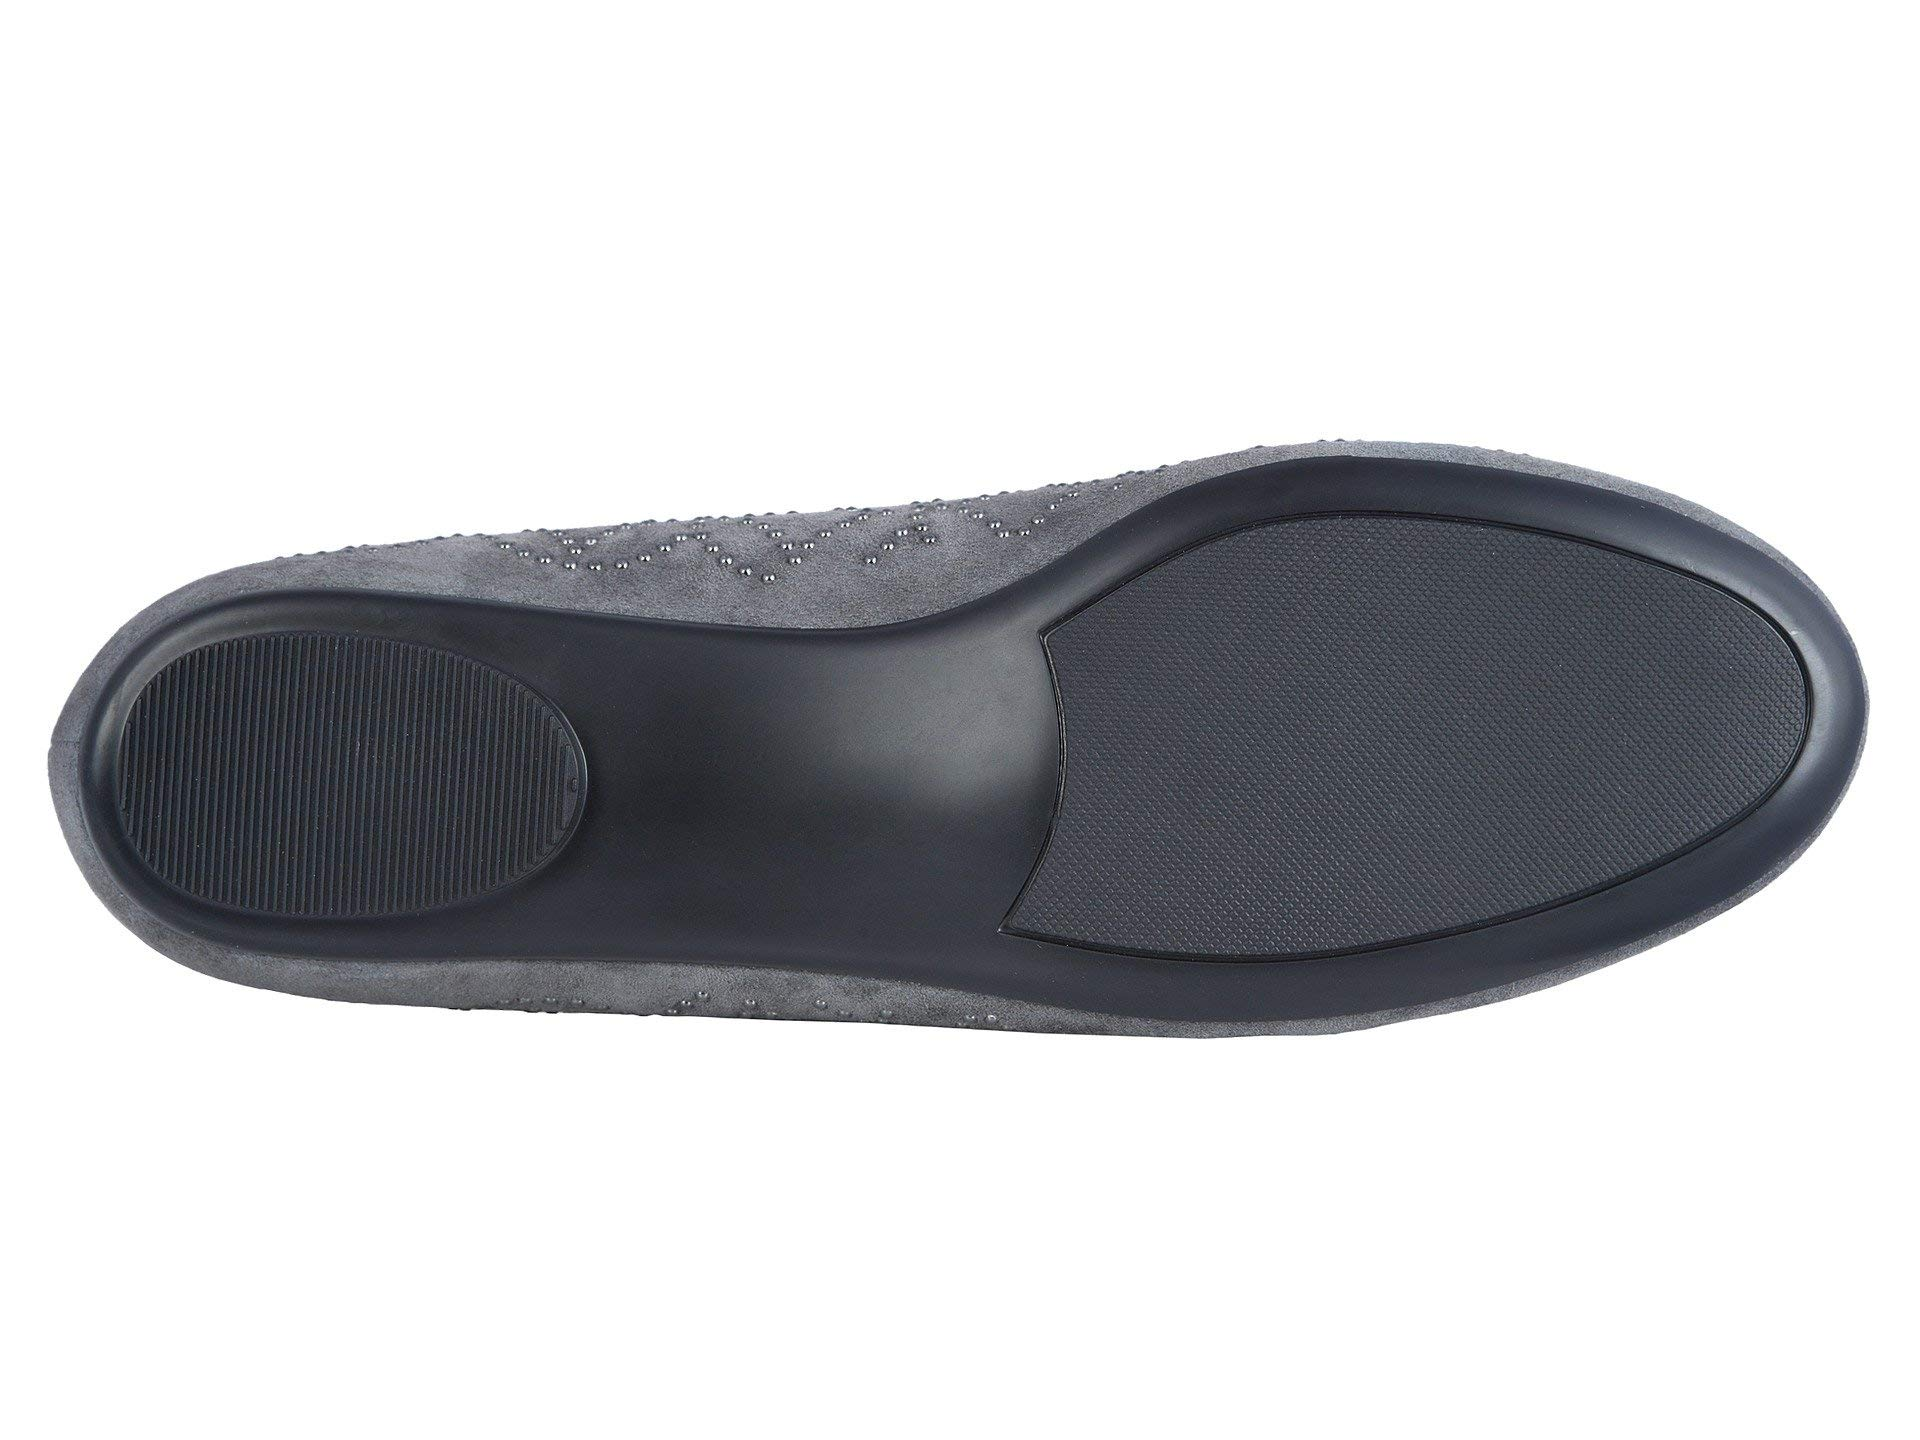line: (213, 696, 413, 843)
quad: (1184, 581, 1666, 839)
